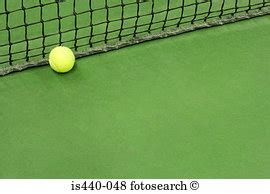tennis_ball: (48, 46, 75, 73)
